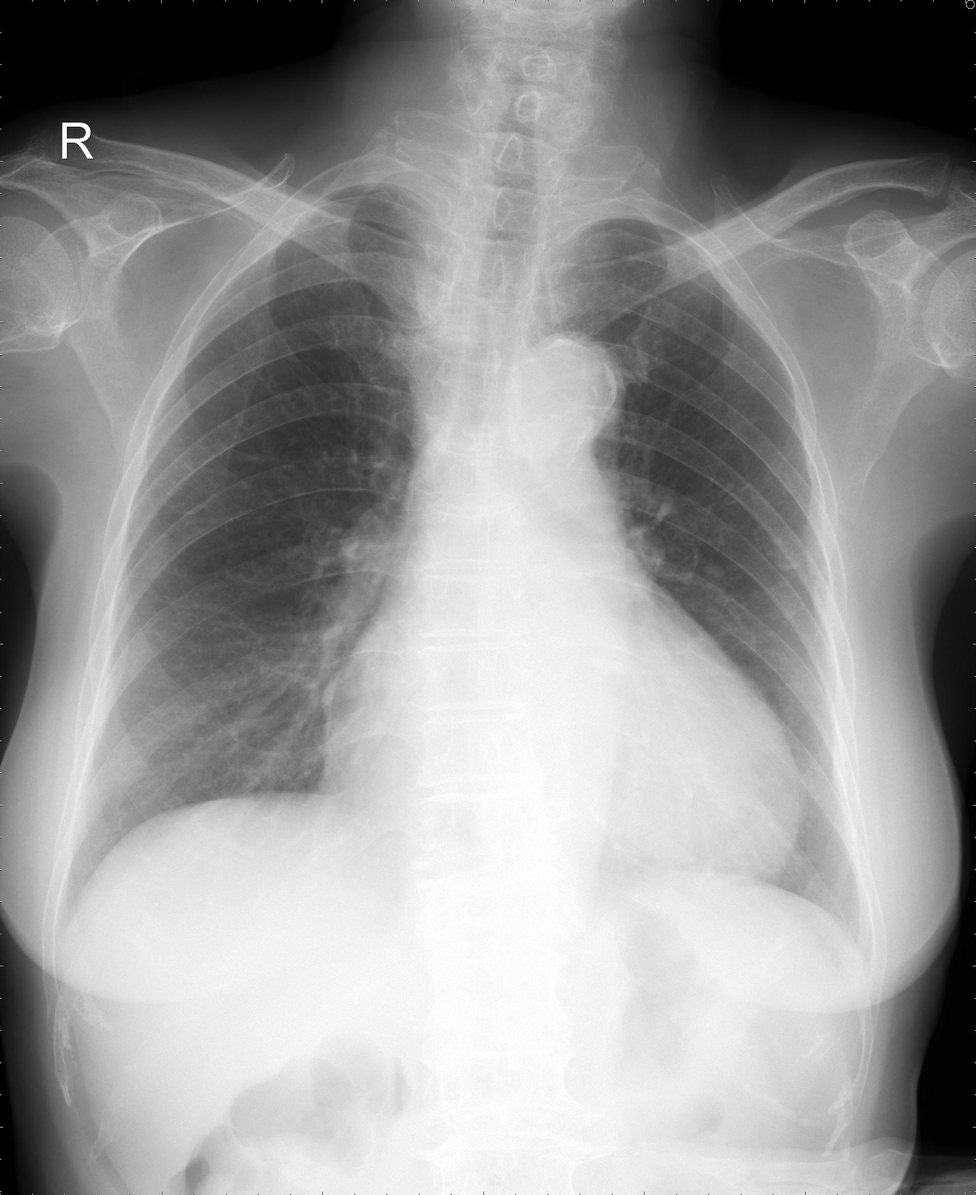Aortic enlargement: (504, 332, 622, 463)
Cardiomegaly: (319, 729, 799, 859)
